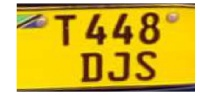T: (52, 12, 80, 48)
